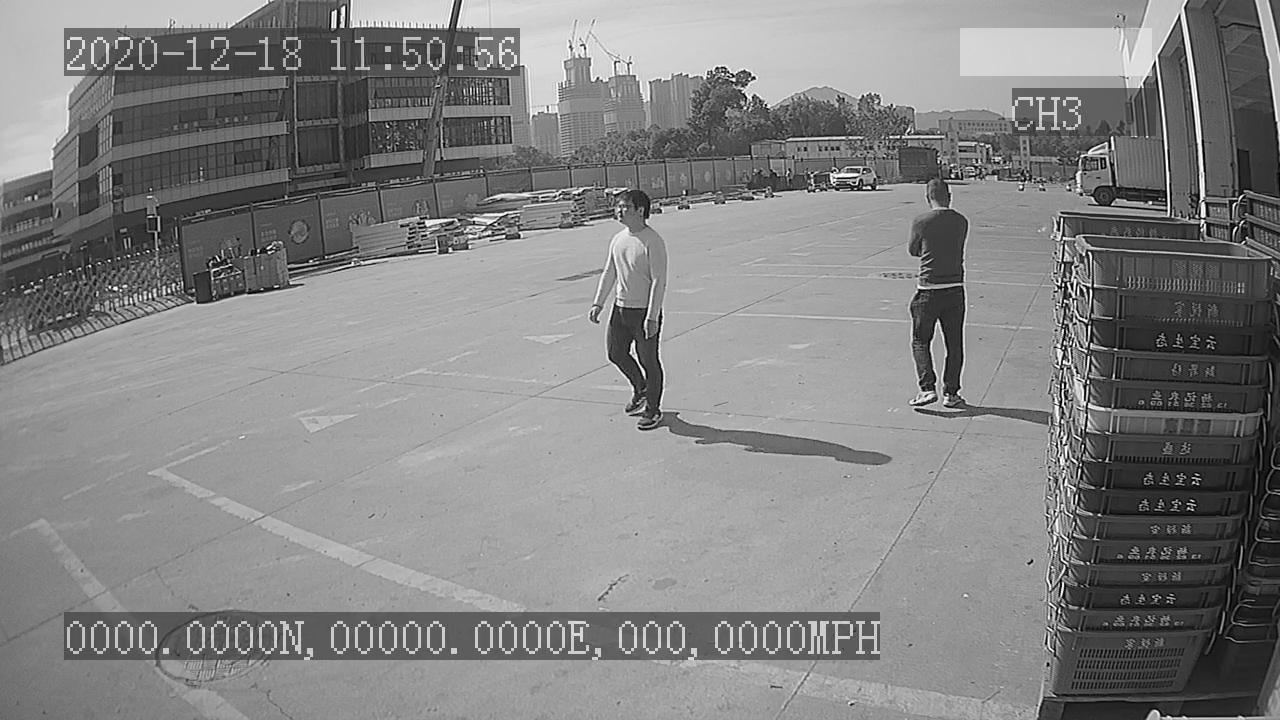person: (577, 186, 677, 438), (899, 169, 974, 411)
